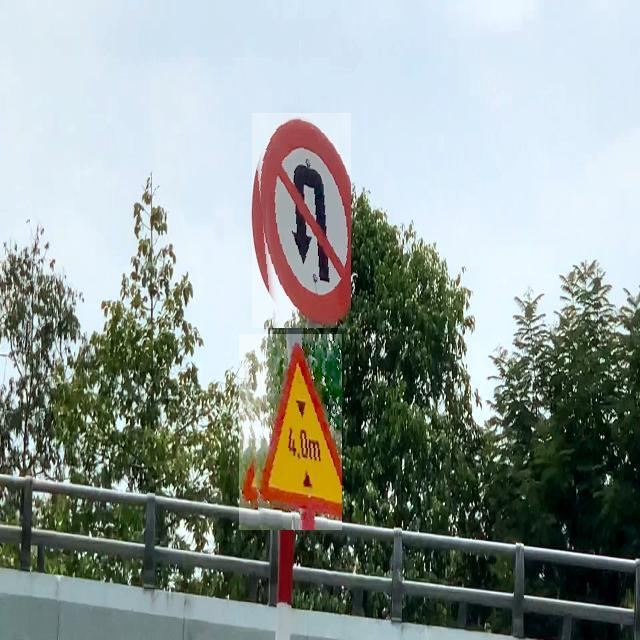P-124a: (252, 113, 351, 328)
S-509a: (239, 335, 342, 531)
